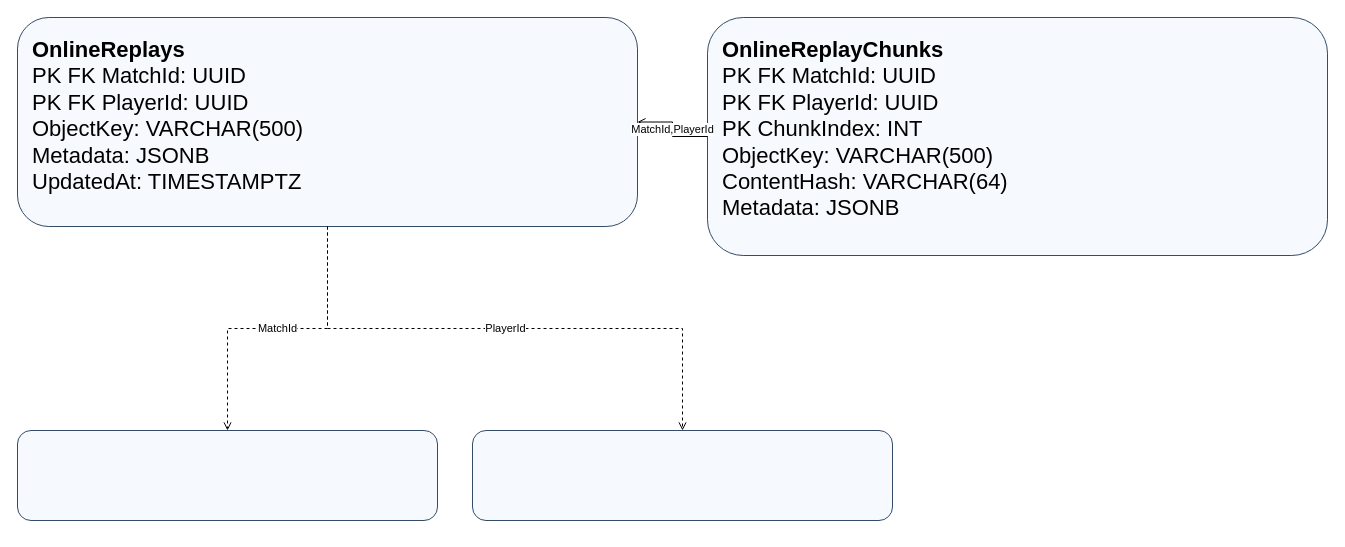
Image size: 1345x547. Some labels were removed from this diagram. The shapes that lost their labels are listed below. From the top down, each one's centre as x and y in pixels, then its label:
At (227,475): "GameMatches Referenced table — see other ERD".
At (682,475): "PlayerProfiles Referenced table — see other ERD".
